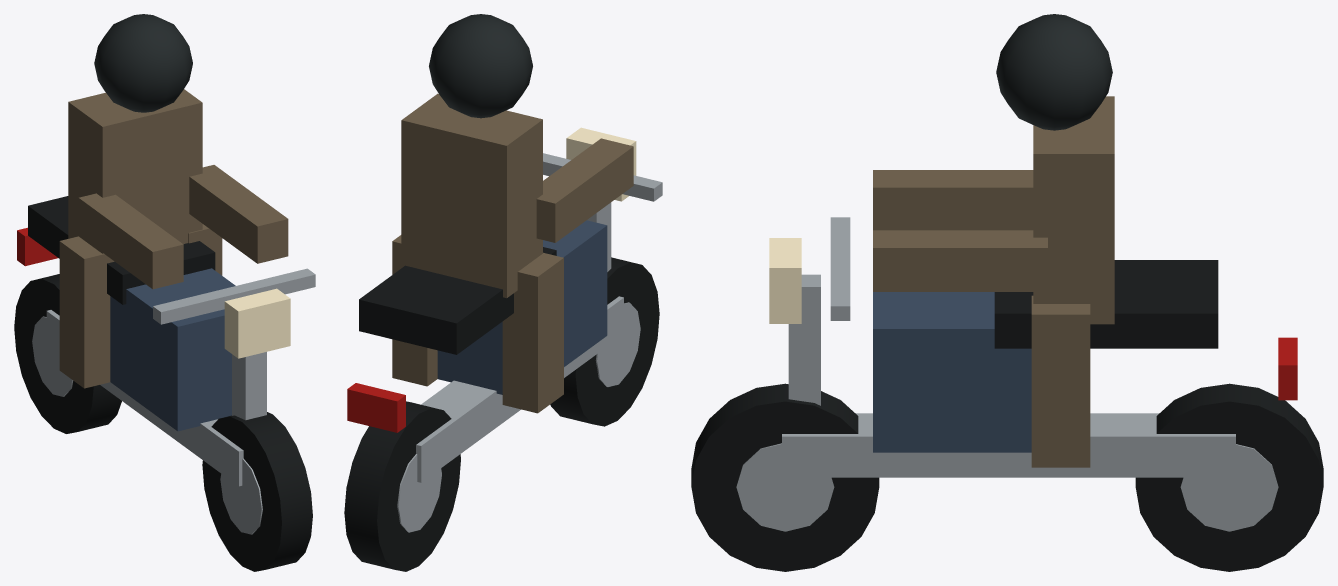
Rendered from motorcycle.glb.
3 renders of one model, left to right at view 1: azimuth 30°, elevation 25°; view 2: azimuth 150°, elevation 25°; view 3: azimuth 270°, elevation 25°, orthographic. The views are drawn at different scales.
Bounding box in the file's own units: 0.65 × 1.85 × 1.95.
